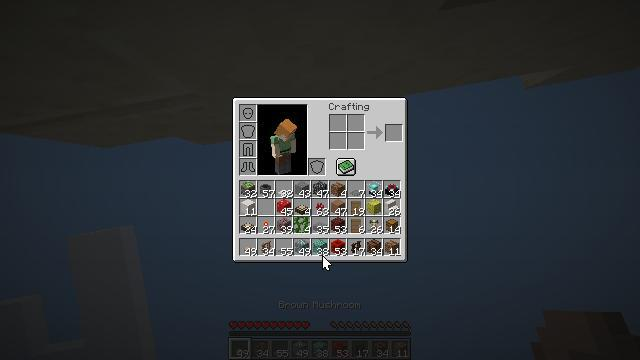cursor: (255, 322, 271, 332)
